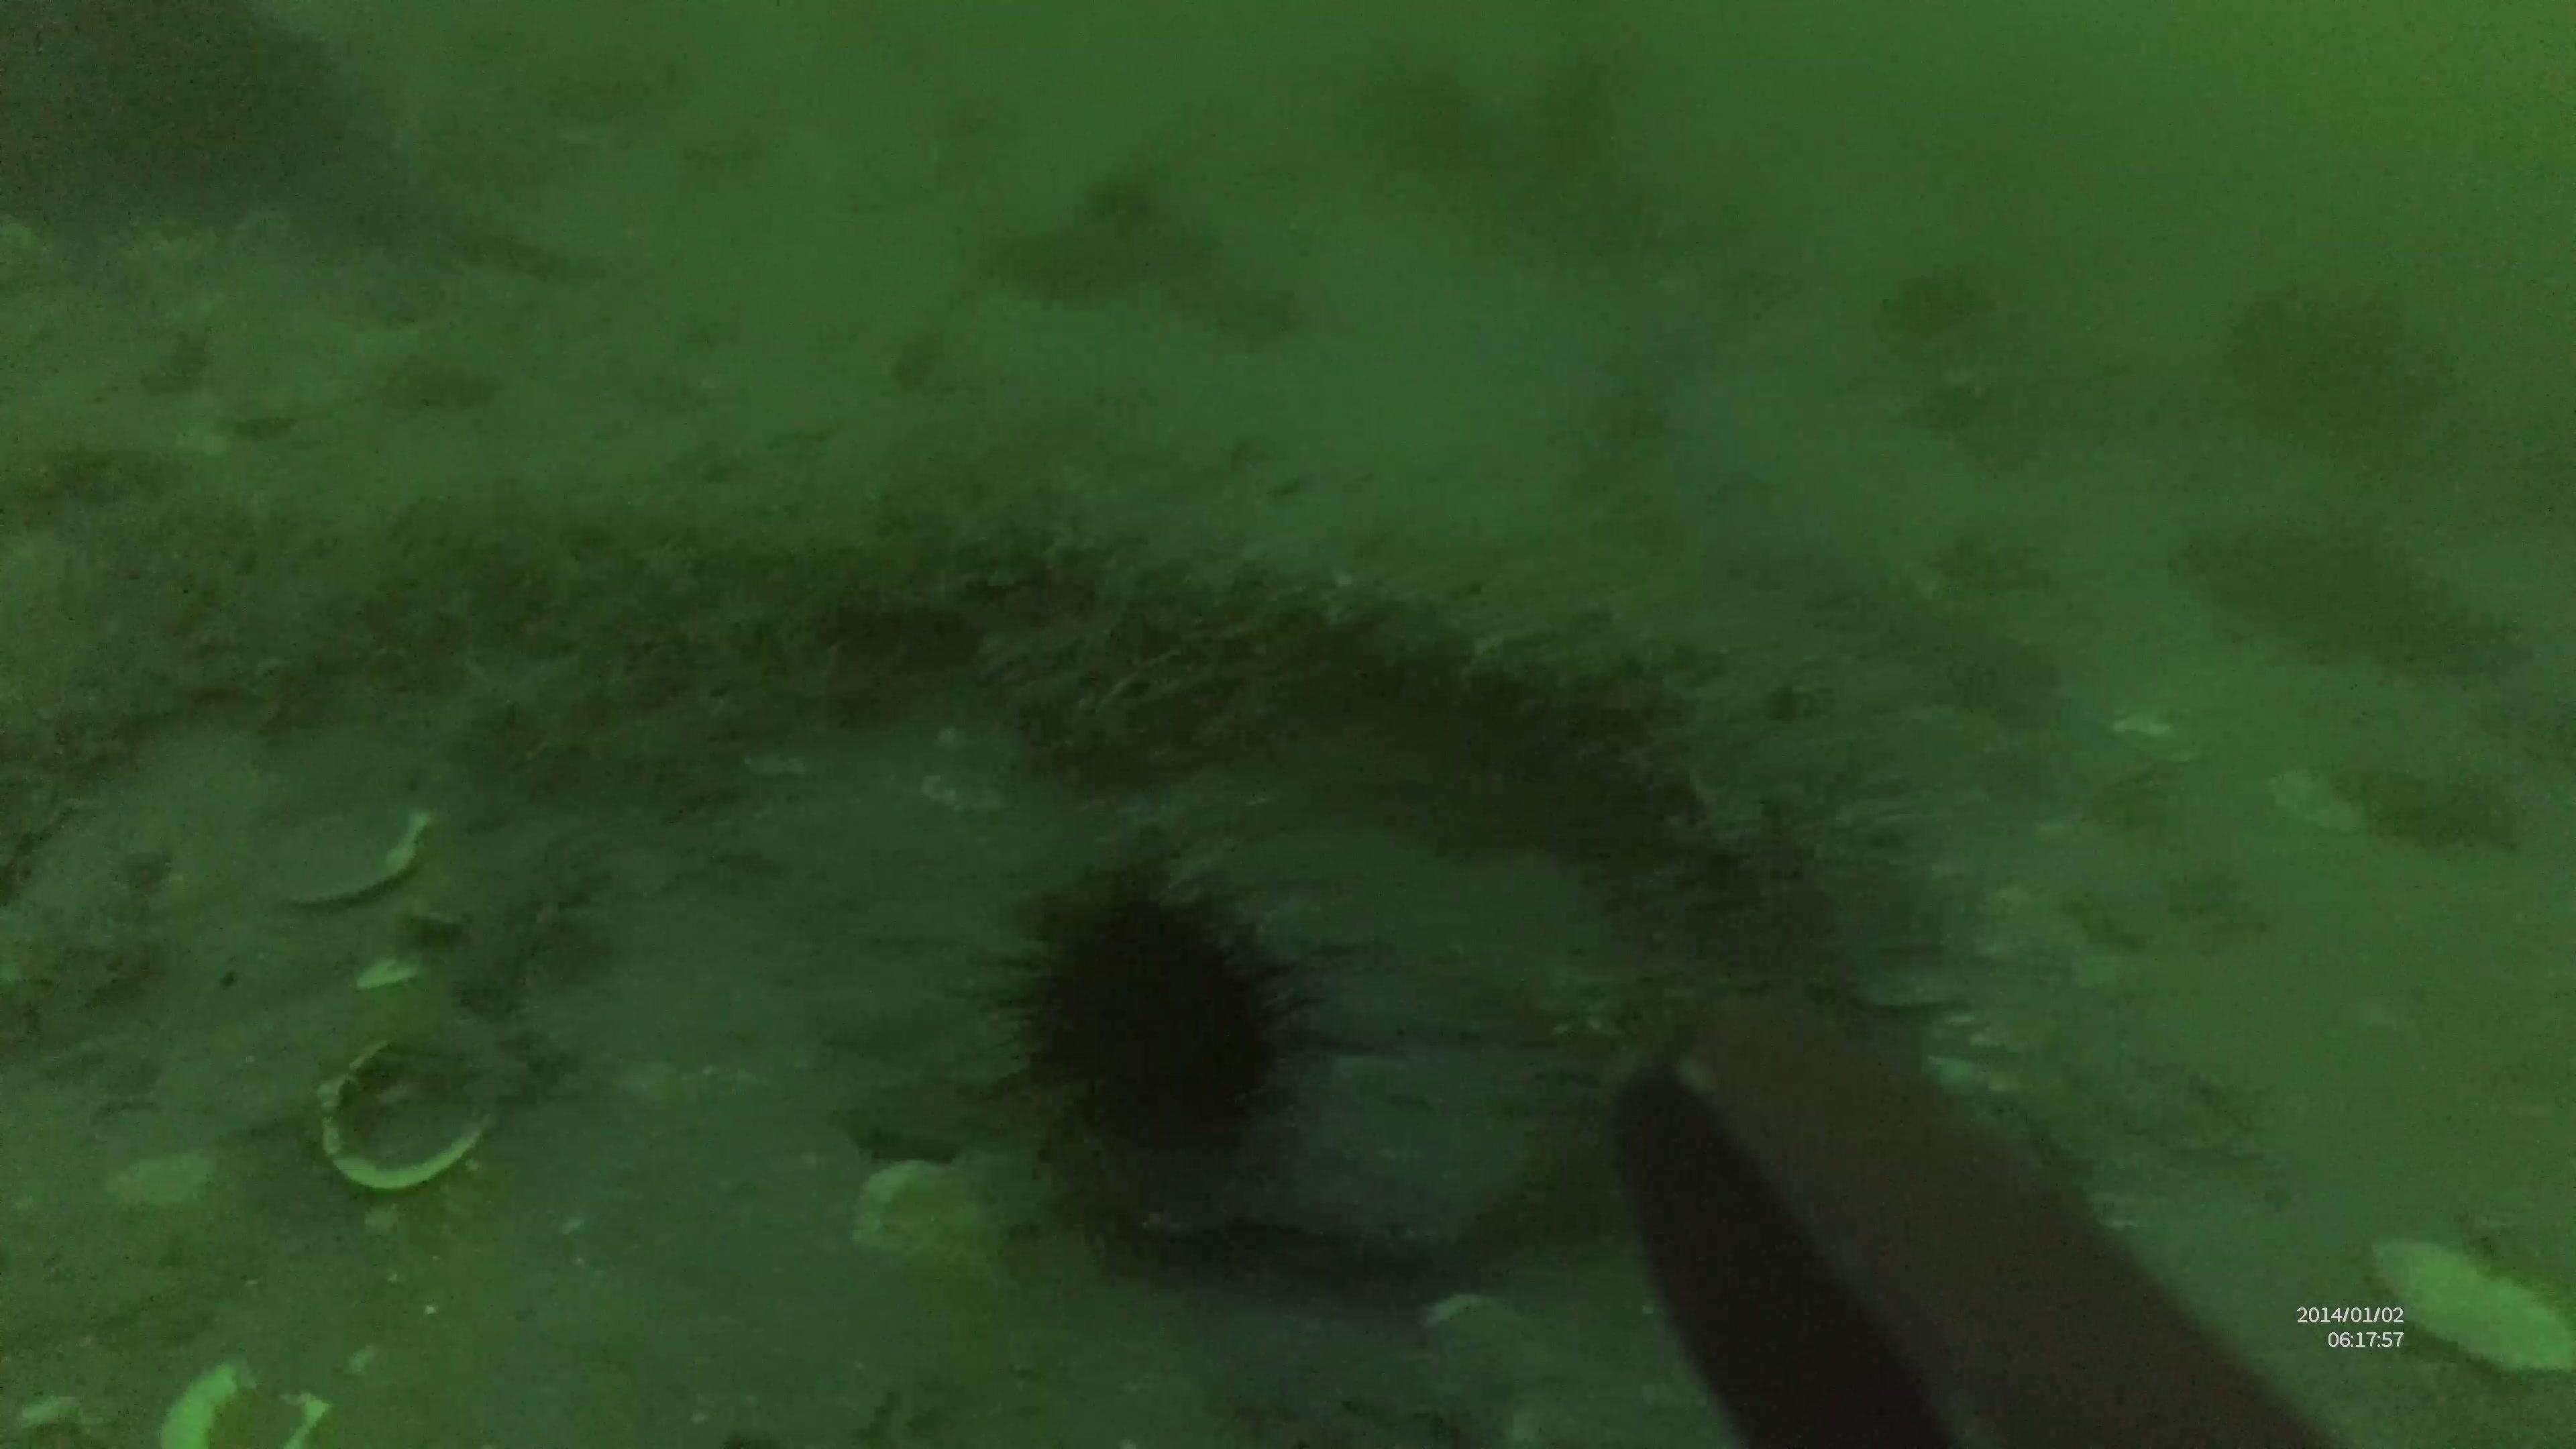echinus: (984, 855, 1318, 1164)
